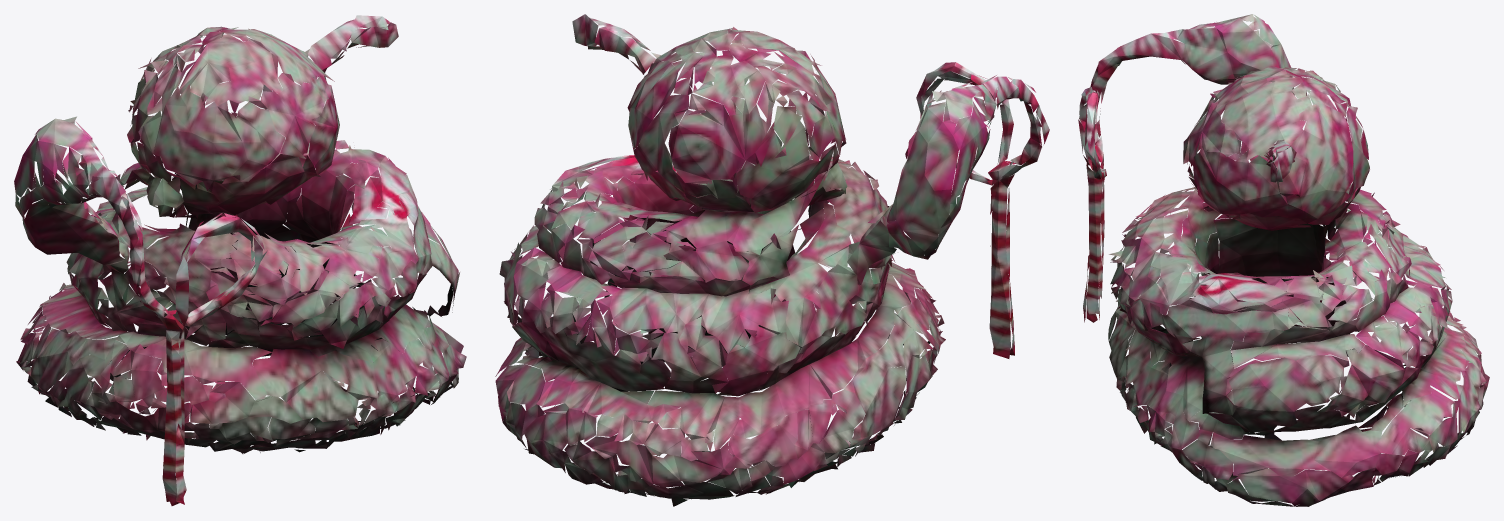
3 renders of one model, left to right at view 1: azimuth 30°, elevation 25°; view 2: azimuth 150°, elevation 25°; view 3: azimuth 270°, elevation 25°, orthographic. The views are drawn at different scales.
Visible parts, largest first — view 1: world; view 2: world; view 3: world.
Part boxes in pixels (<box>): world: <box>14,15,466,505</box>; world: <box>495,14,1049,506</box>; world: <box>1078,14,1489,506</box>.
Bounding box in the file's own units: 0.9991 × 0.8721 × 0.9286.
Materials: 1 (1 with a texture image).
